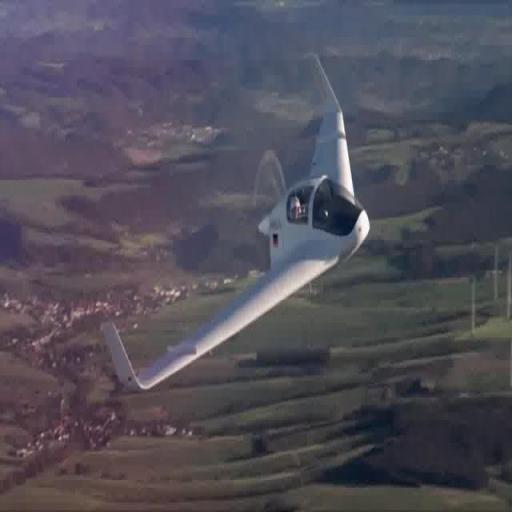uav: (98, 49, 376, 423)
